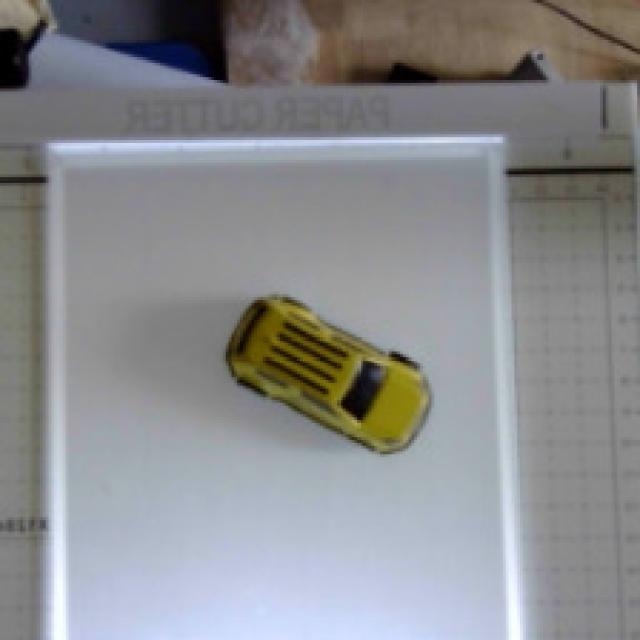Yellow Car: (206, 262, 473, 493)
